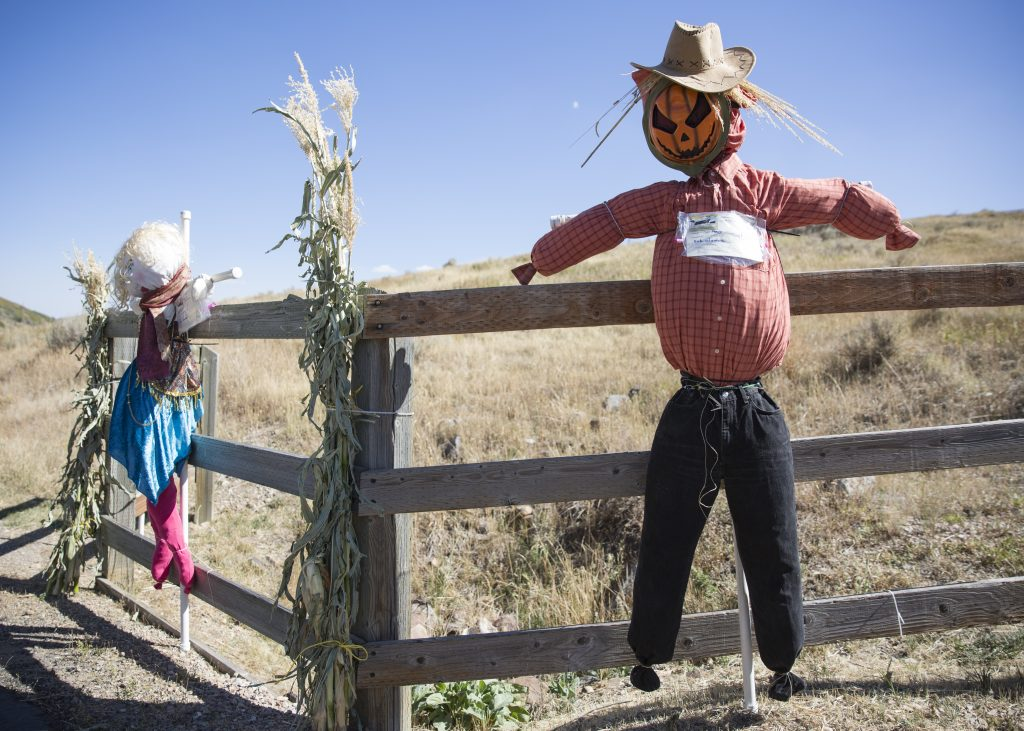person-like: (509, 12, 924, 703), (94, 213, 234, 599)
